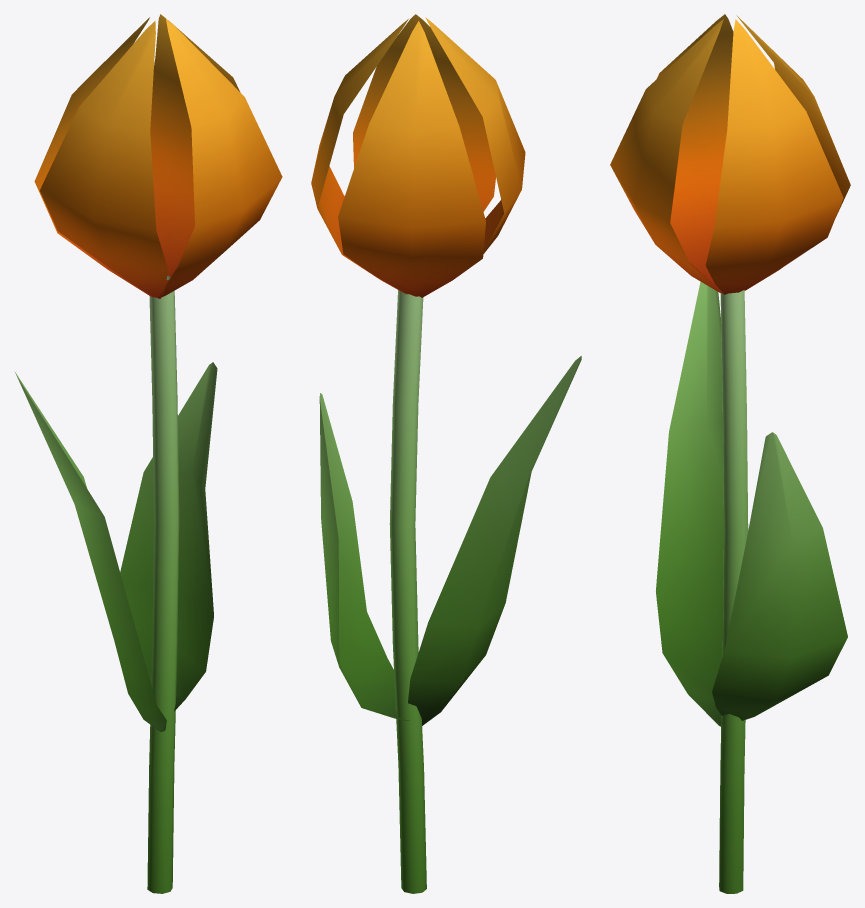
The model's file is flower (15).fbx.
The picture shows the model from 3 angles, left to right: view 1: azimuth 30°, elevation 25°; view 2: azimuth 150°, elevation 25°; view 3: azimuth 270°, elevation 25°; orthographic projection.
Parts seen in each view (by area): view 1: 14_f4; view 2: 14_f4; view 3: 14_f4.
Part boxes in pixels (x1=…): 14_f4: x1=14, y1=14, x2=282, y2=893; 14_f4: x1=311, y1=14, x2=581, y2=893; 14_f4: x1=610, y1=14, x2=850, y2=893.
Size of the model in its own units: 36.01 by 115 by 28.92.
